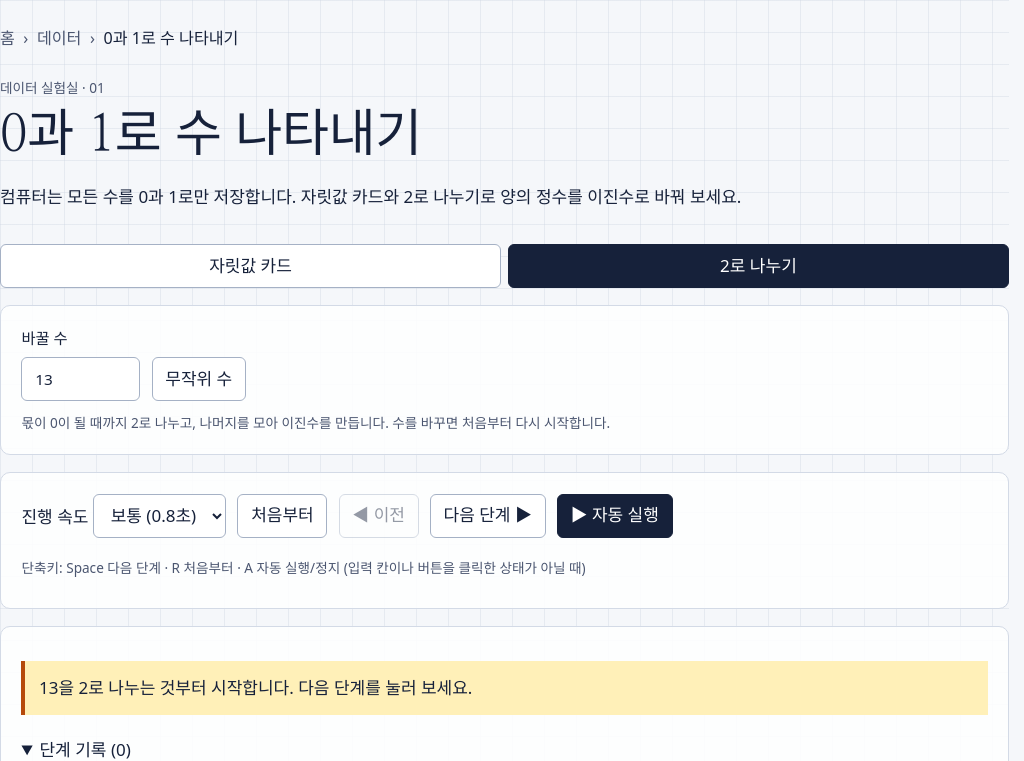
Test: 2로 나누기는 0과 음수를 1로, 큰 수를 255로 바꾸고 처음부터 다시 나눈다
This screenshot has width=1024, height=761.
Click the button "다음 단계 ▶" at [488, 516], box [430, 494, 546, 538]
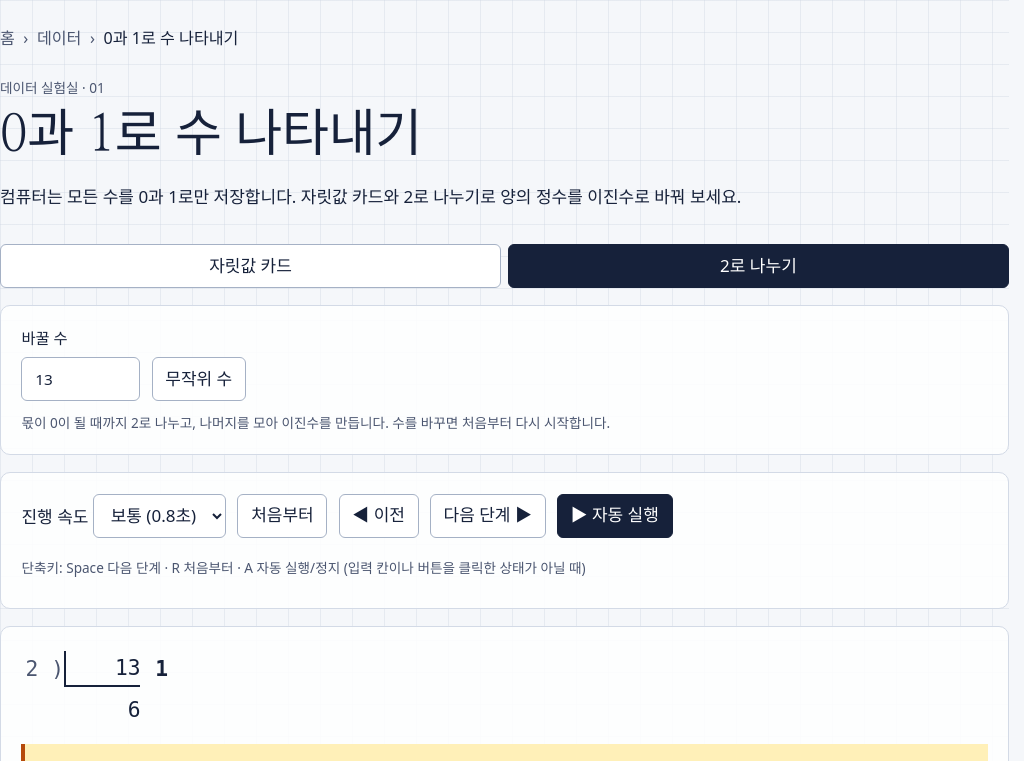
Replace the text in the number field labelled "바꿀 수" with "0" at [81, 379], box [22, 357, 140, 401]
Leave the number field labelled "바꿀 수", box [22, 357, 140, 401]
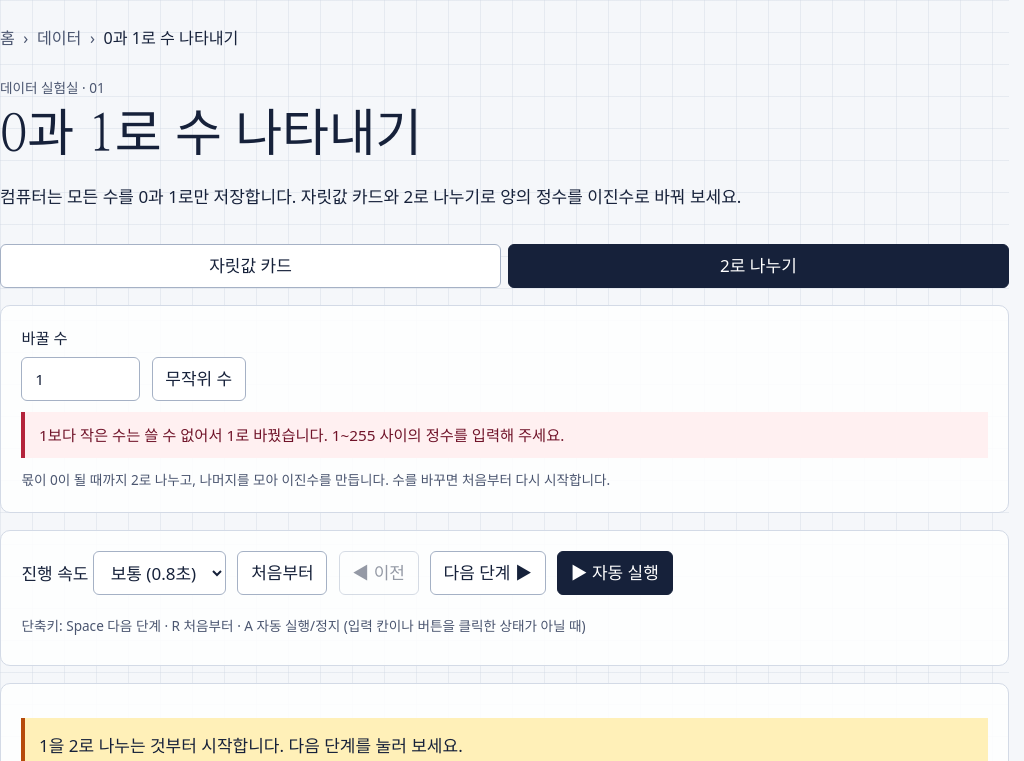
Expected: the number field labelled "바꿀 수" holds "1"
Expected: the message "1보다 작은 수는 쓸 수 없어서 1로 바꿨습니다. 1~255 사이의 정수를 입력해 주세요." is shown, [22, 412, 988, 458]
Replace the text in the number field labelled "바꿀 수" with "-3" at [81, 379], box [22, 357, 140, 401]
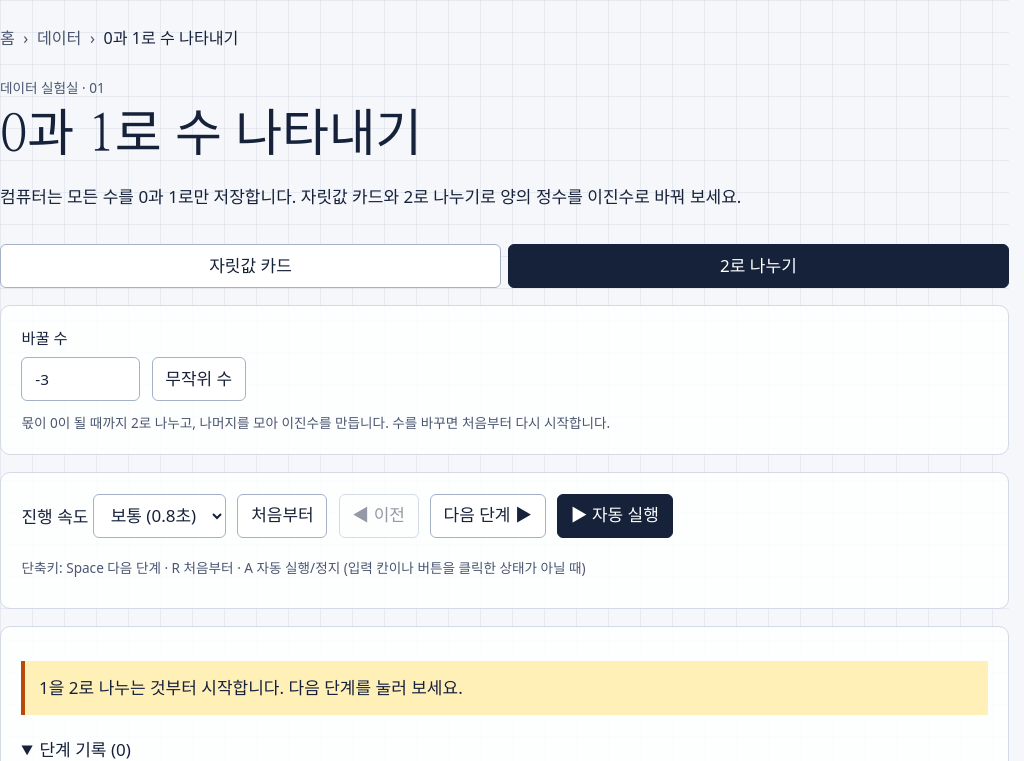
Leave the number field labelled "바꿀 수", box [22, 357, 140, 401]
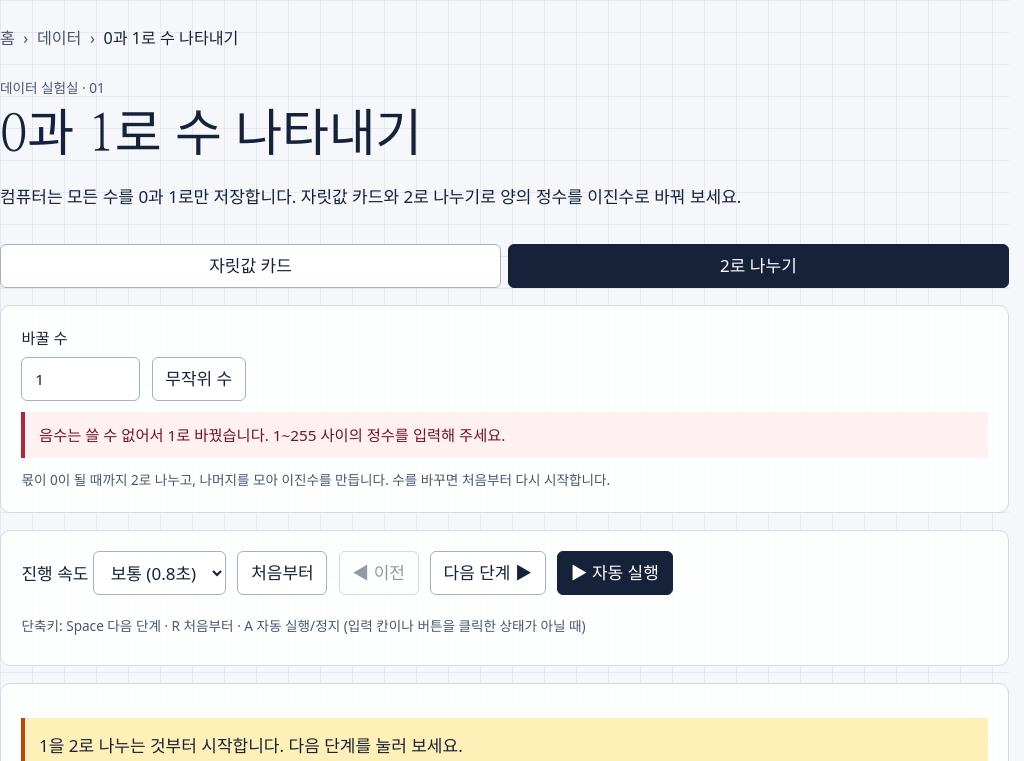
Expected: the message "음수는 쓸 수 없어서 1로 바꿨습니다. 1~255 사이의 정수를 입력해 주세요." is shown, [22, 412, 988, 458]
Replace the text in the number field labelled "바꿀 수" with "1000" at [81, 379], box [22, 357, 140, 401]
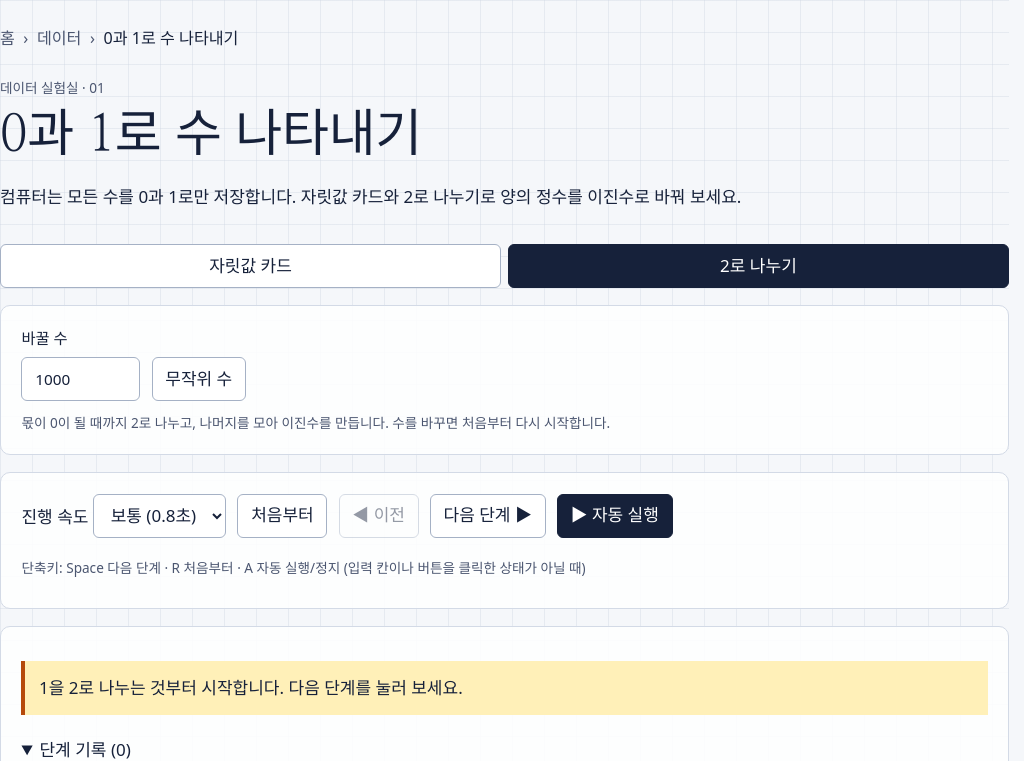
Leave the number field labelled "바꿀 수", box [22, 357, 140, 401]
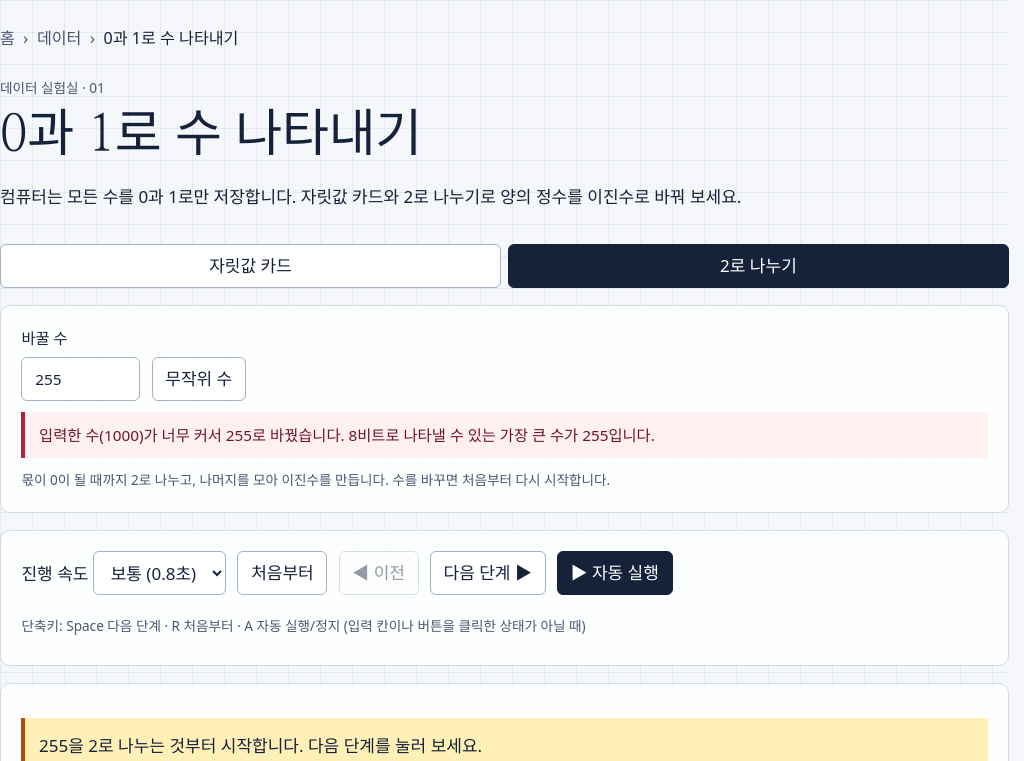
Expected: the number field labelled "바꿀 수" holds "255", [22, 357, 140, 401]
Expected: the message "입력한 수(1000)가 너무 커서 255로 바꿨습니다. 8비트로 나타낼 수 있는 가장 큰 수가 255입니다." is shown, [22, 412, 988, 458]
